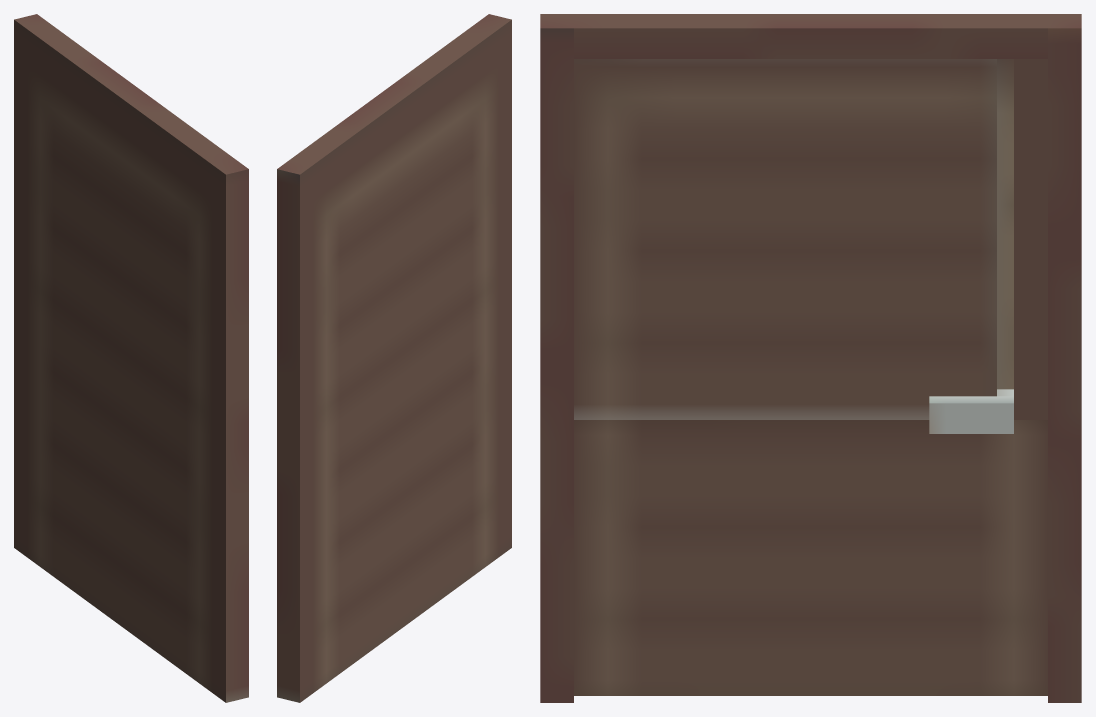
Rendered from DoorBrown_03.obj.
3 views of the same model, side by side, from view 1: azimuth 30°, elevation 25°; view 2: azimuth 150°, elevation 25°; view 3: azimuth 270°, elevation 25° (orthographic). The views are drawn at different scales.
Visible parts, largest first — view 1: DoorBrown_03; view 2: DoorBrown_03; view 3: DoorBrown_03.
Part boxes in pixels (x1,y1,x2,y2): DoorBrown_03: (14,14,248,702); DoorBrown_03: (277,14,511,702); DoorBrown_03: (540,14,1081,702).
Size of the model in its own units: 0.15 by 2.2 by 1.6.
